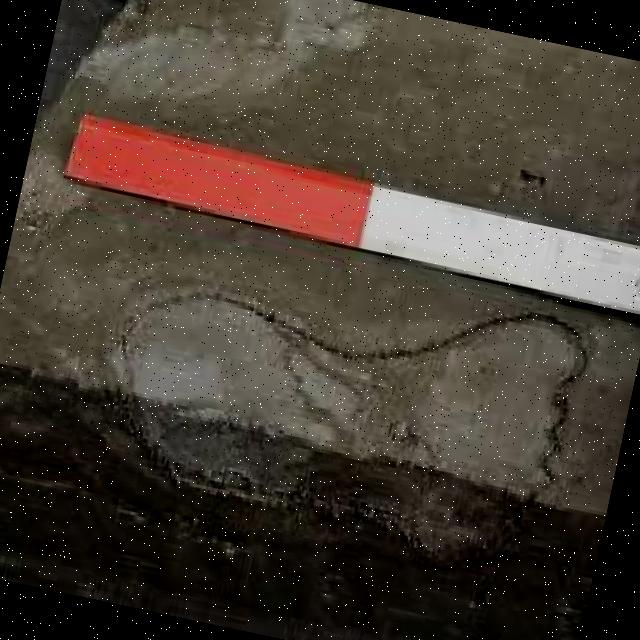curb: (48, 123, 640, 313)
